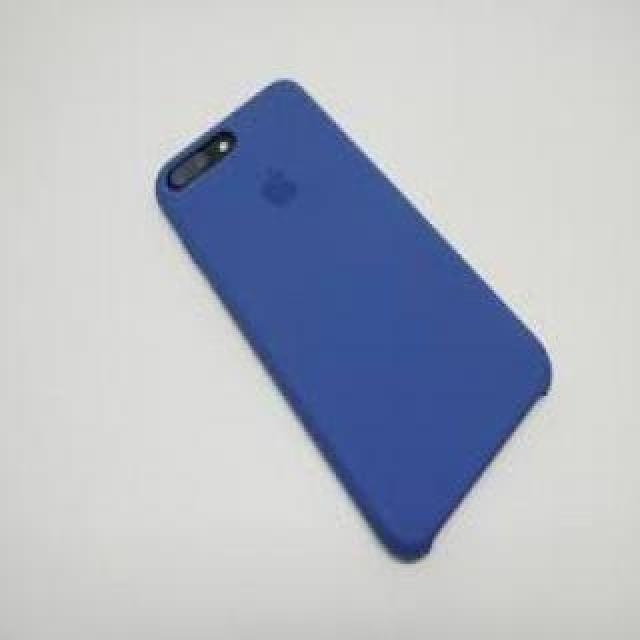smart phone: (140, 65, 553, 628)
